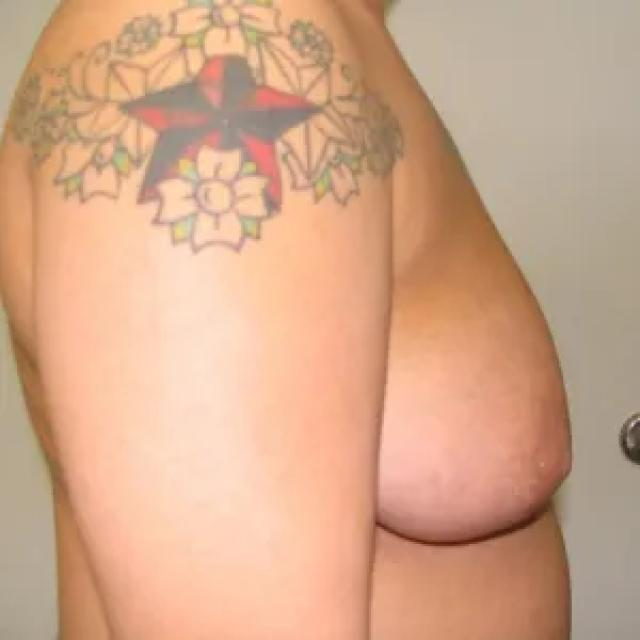Seno ileso: (370, 153, 586, 569)
